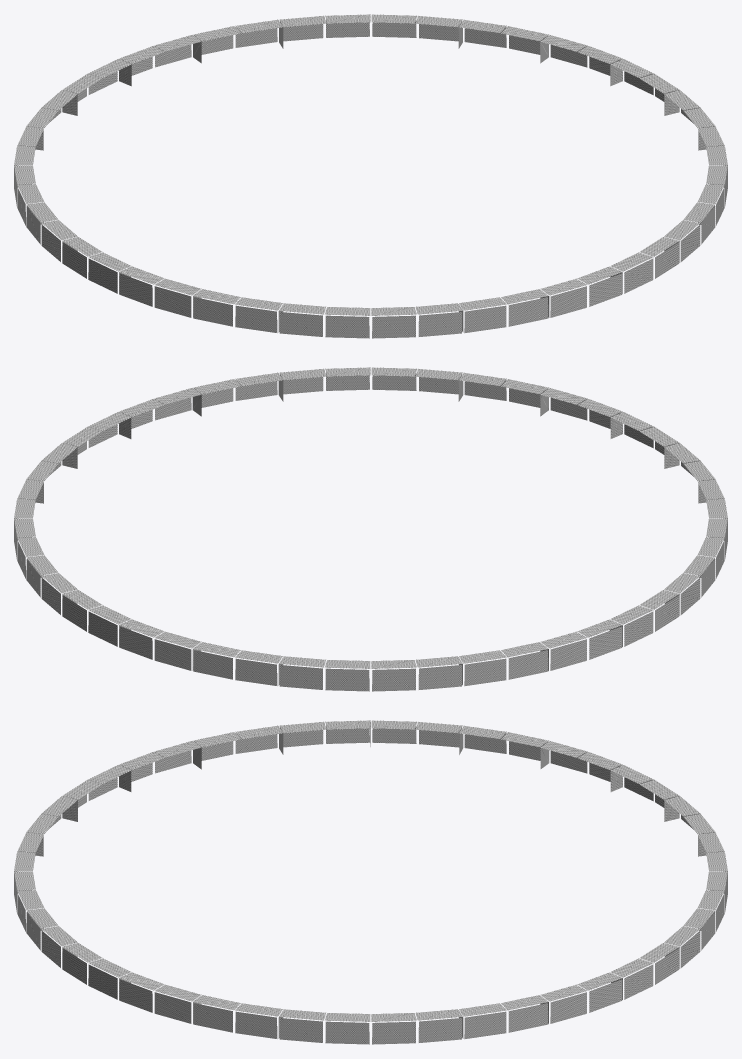
Rendered from field_spring_grid_plane.fbx.
3 renders of one model, top to bottom at view 1: azimuth 30°, elevation 25°; view 2: azimuth 150°, elevation 25°; view 3: azimuth 270°, elevation 25°, orthographic.
Visible parts, largest first — view 1: field_spring_grid_plane; view 2: field_spring_grid_plane; view 3: field_spring_grid_plane.
Part boxes in pixels (x1,y1,x2,y2): field_spring_grid_plane: (14, 14, 727, 338); field_spring_grid_plane: (14, 367, 727, 691); field_spring_grid_plane: (14, 720, 727, 1044).
Size of the model in its own units: 7311 by 253 by 7311.
Materials: 1 (1 with a texture image).
